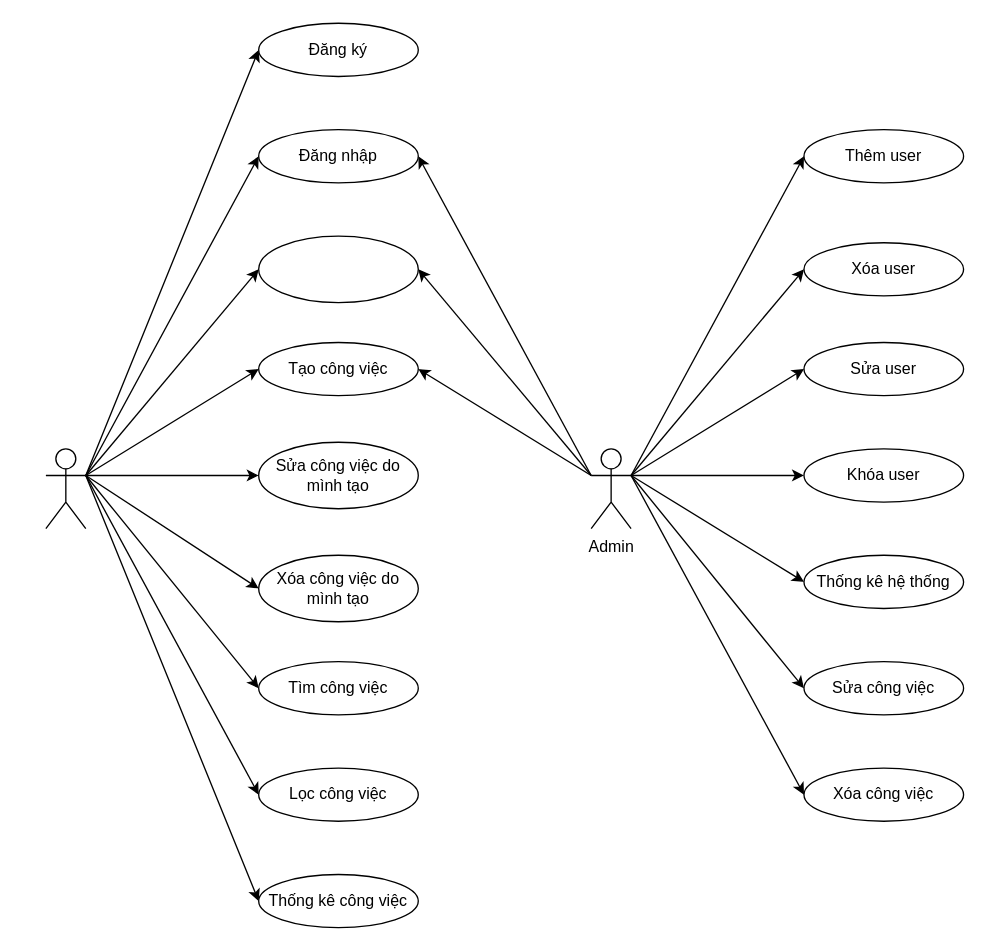
Some shapes in this 987 by 951 pixel diagram are drawn without their labels. The centre of each missing label's shape, as x and y in pixels:
Người dùng: point (65, 488)
Sửa thông tin cá nhân: point (337, 269)
